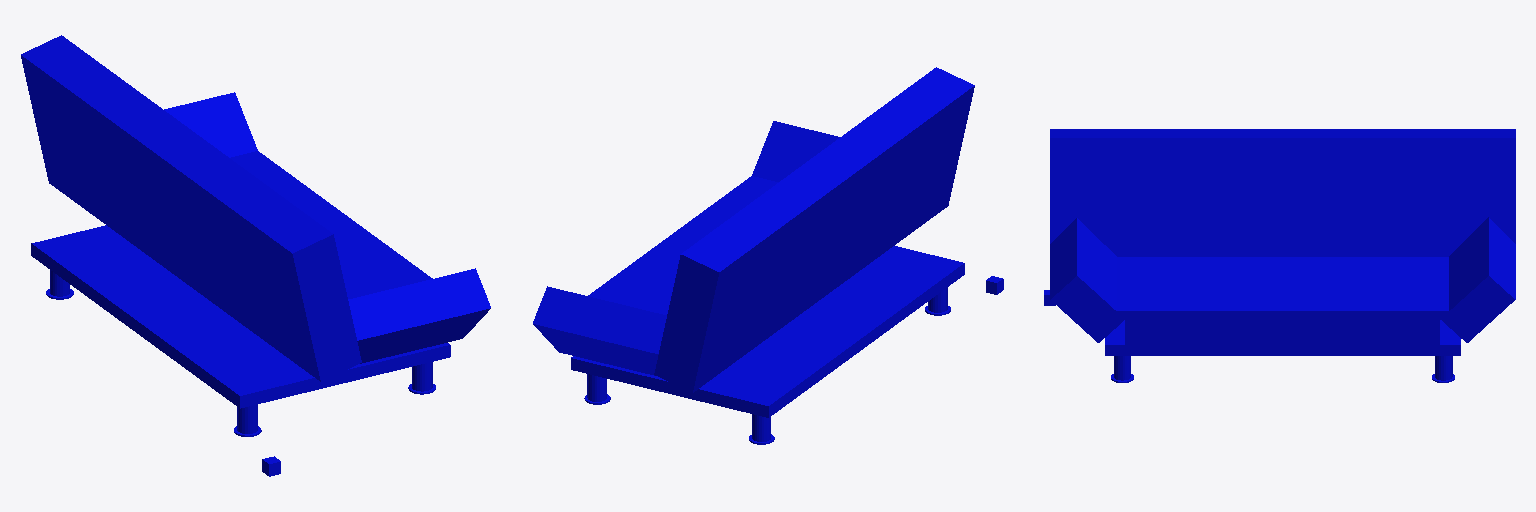
robot.urdf — blob000:
<robot name="blob000">
  <link name="random_obj_000">
    <contact>
      <lateral_friction value="1.0"/>
      <rolling_friction value="0.0"/>
      <inertia_scaling value="3.0"/>
      <contact_cfm value="0.0"/>
      <contact_erp value="1.0"/>
    </contact>
    <inertial>
      <origin rpy="0 0 0" xyz="0 0 0"/>
      <mass value="0.1"/>
      <inertia ixx="1" ixy="0" ixz="0" iyy="1" iyz="0" izz="0"/>
    </inertial>
    <visual>
      <origin rpy="0 0 0" xyz="0 0 0"/>
      <geometry>
        <mesh filename="couch_new.obj"/>
      </geometry>
      <material name="blockmat">
        <color rgba="0.04 0.07 0.91 1"/>
      </material>
    </visual>
    <collision>
      <origin rpy="0 0 0" xyz="0 0 0"/>
      <geometry>
        <mesh filename="couch_new.obj"/>
      </geometry>
    </collision>
  </link>
</robot>

--- What the picture shows (computed from the rendered views, not written in the file) ---
3 views of the same robot in one strip: view 1: azimuth 30°, elevation 25°; view 2: azimuth 150°, elevation 25°; view 3: azimuth 270°, elevation 25° (orthographic).
Model blob000 with 1 links and 0 joints (none), rooted at random_obj_000, posed all joints at 0.
Links seen in each view (by area): view 1: random_obj_000; view 2: random_obj_000; view 3: random_obj_000.
Boxes of the visible links, box(x1,y1,x2,y2) form: random_obj_000: box(21, 35, 490, 476); random_obj_000: box(533, 67, 1003, 444); random_obj_000: box(1044, 129, 1515, 382).
Size in the robot's own frame: 37.5 by 79.26 by 35.49 metres.
1 mesh visuals loaded from 1 distinct referenced files (1 OBJ).